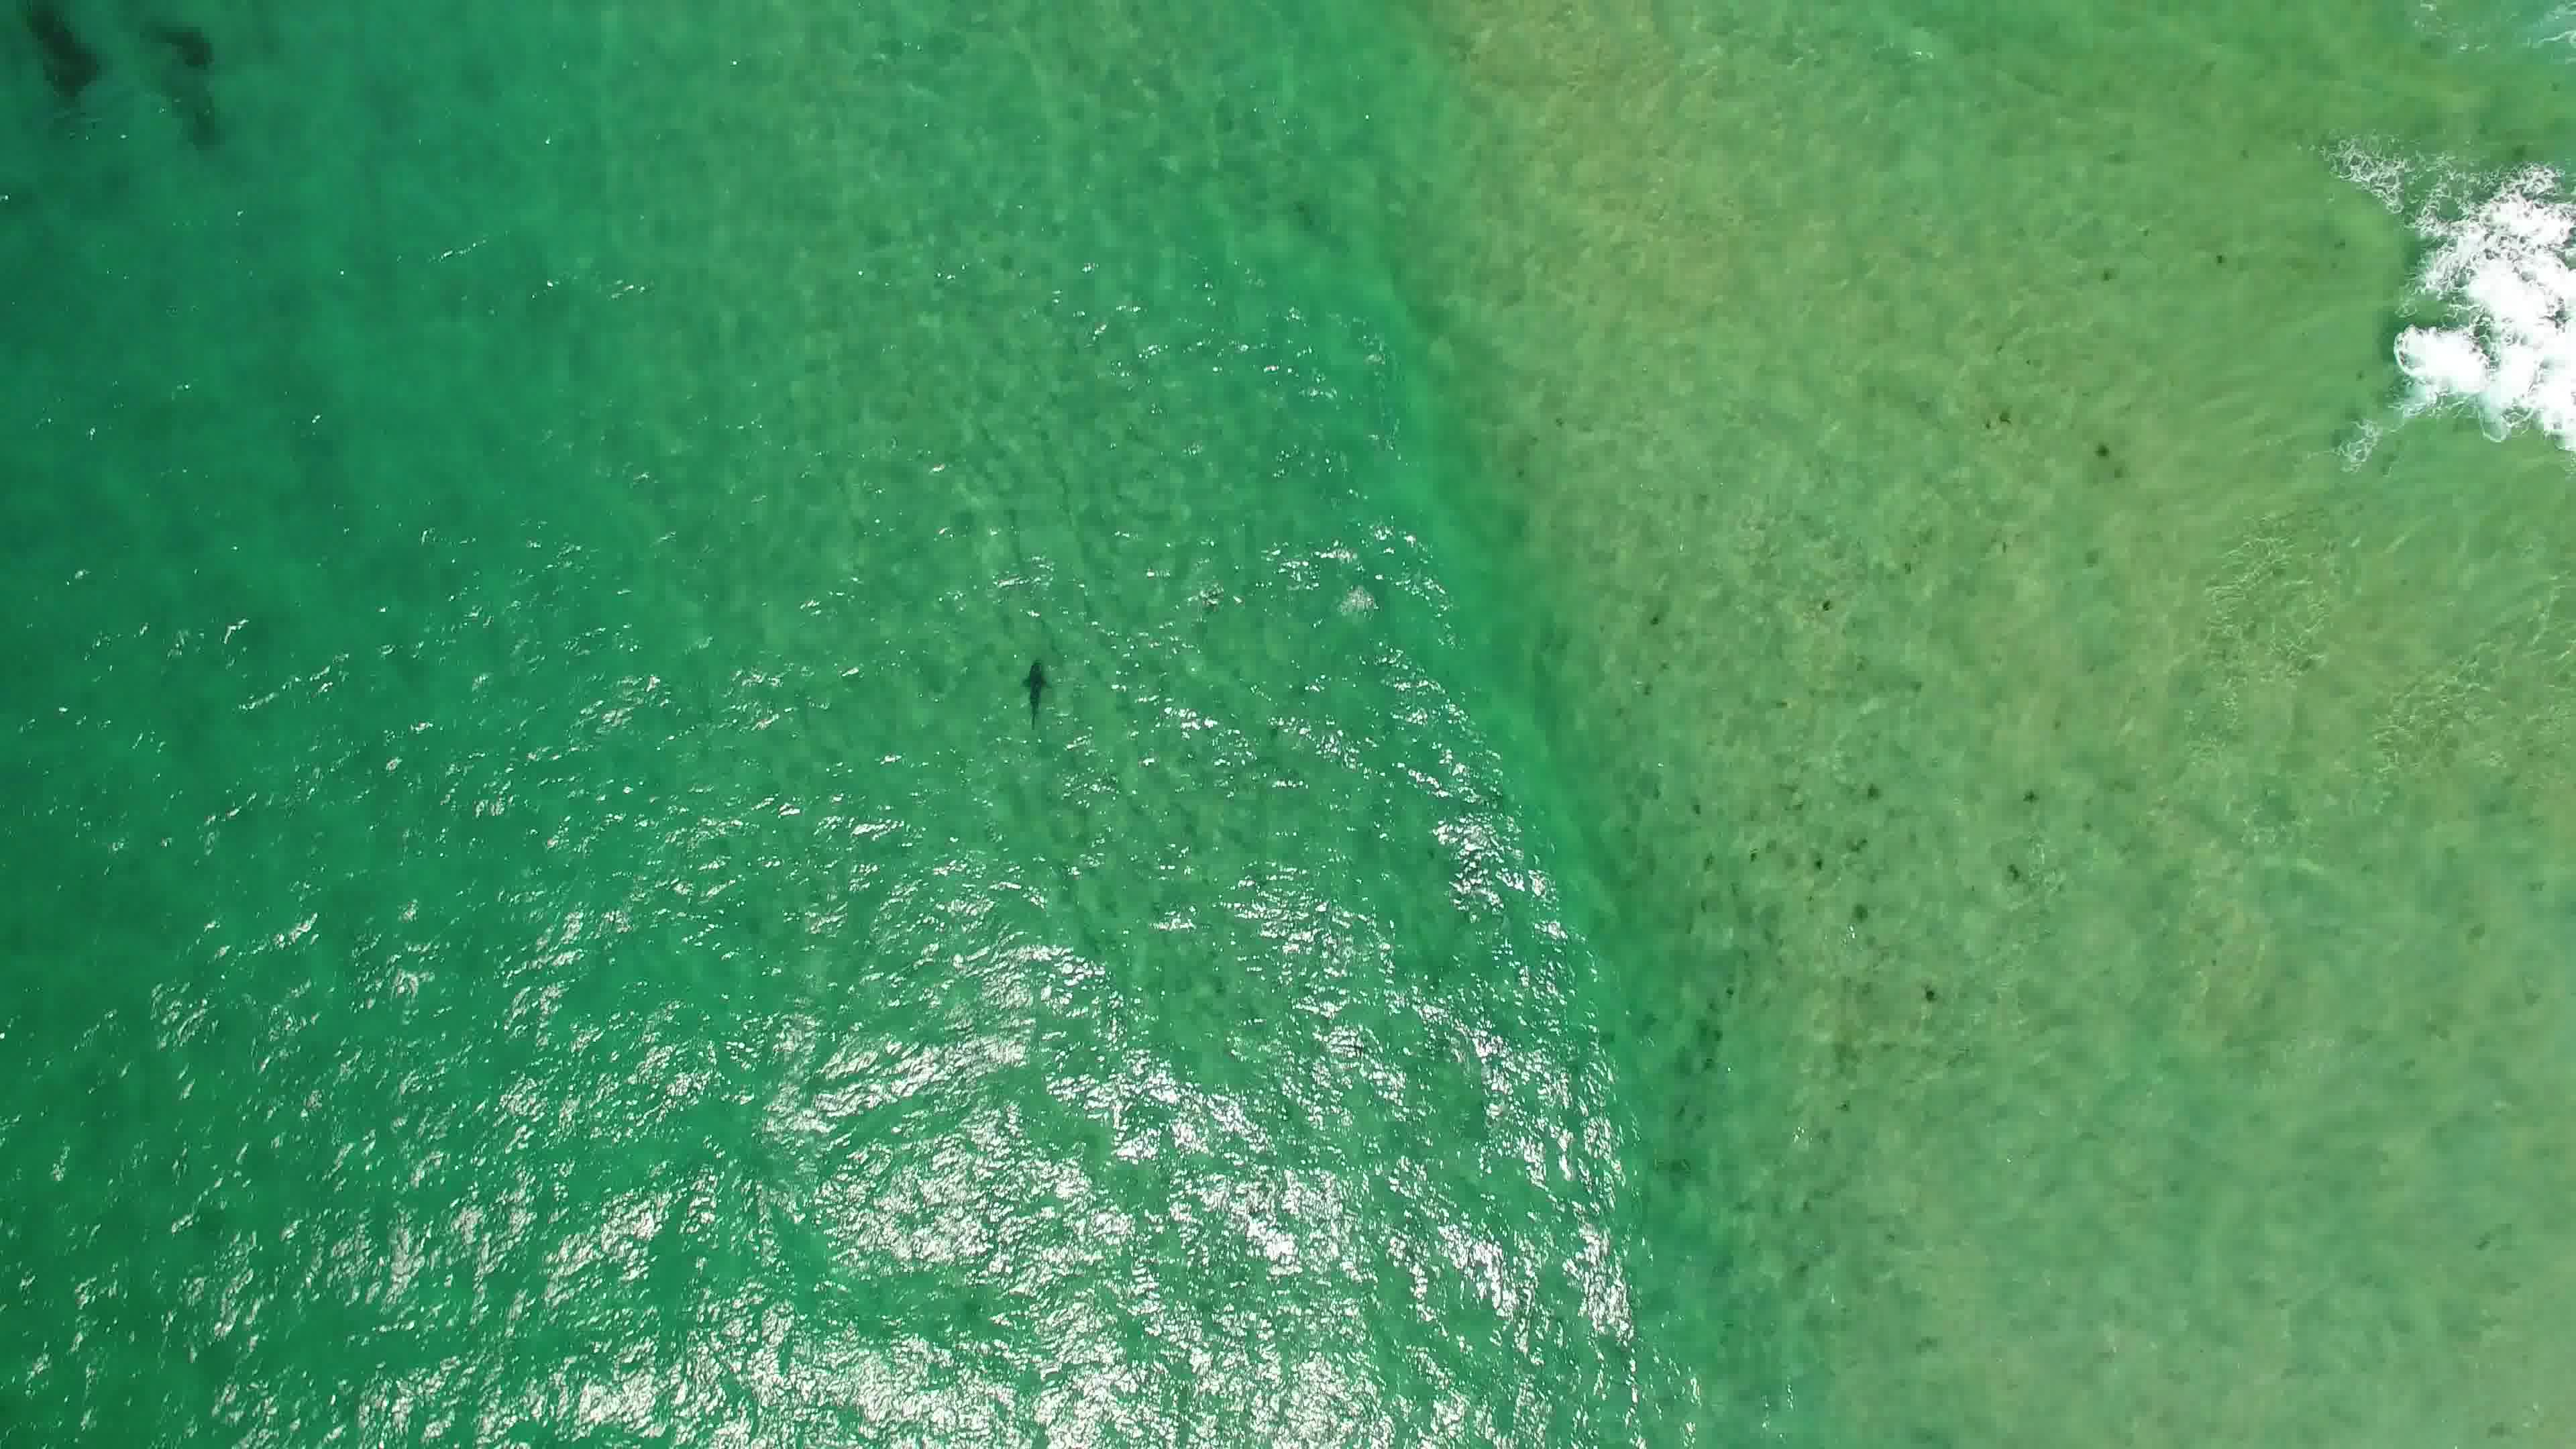shark: (1017, 655, 1060, 731)
